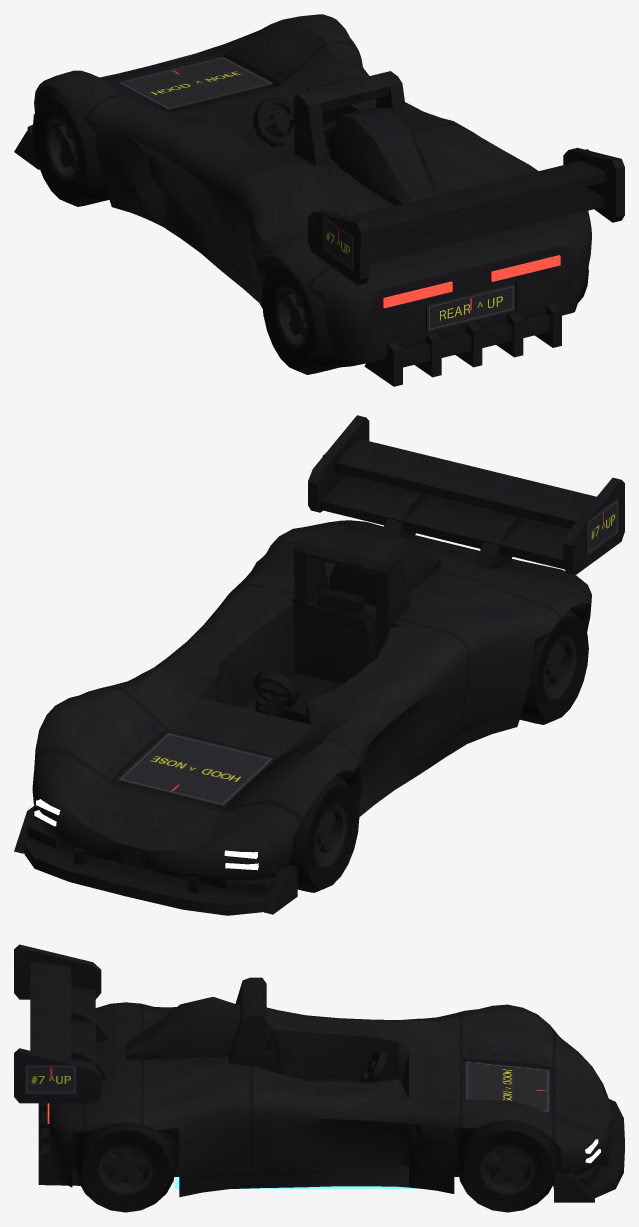
File: razor_preview.glb
The picture shows the model from 3 angles, top to bottom: view 1: azimuth 30°, elevation 25°; view 2: azimuth 150°, elevation 25°; view 3: azimuth 270°, elevation 25°; orthographic projection. The views are drawn at different scales.
Parts seen in each view (by area): view 1: Chassis, DecalPlates, Wheel_FL, Wheel_RL, TailStrips, Steer; view 2: Chassis, DecalPlates, Wheel_FL, Wheel_RL, Steer, HeadlightStrips; view 3: Chassis, Wheel_FR, Wheel_RR, DecalPlates, Steer, Underglow.
Boxes of the visible parts, x1,y1,x2,y2 form: Chassis: (14,14,624,386); DecalPlates: (117,56,589,332); Wheel_FL: (32,89,109,206); Wheel_RL: (262,259,340,374); TailStrips: (383,255,560,308); Steer: (253,97,294,144); Chassis: (14,415,624,915); DecalPlates: (117,454,618,805); Wheel_FL: (288,775,359,892); Wheel_RL: (519,609,588,724); Steer: (253,670,298,707); HeadlightStrips: (34,799,258,870); Chassis: (14,944,624,1202); Wheel_FR: (457,1120,557,1212); Wheel_RR: (75,1123,175,1212); DecalPlates: (25,1061,550,1112); Steer: (361,1050,387,1082); Underglow: (175,1177,421,1188).
Bounding box in the file's own units: 5.16 × 3.32 × 11.2.
Materials: 5 (2 with a texture image).
